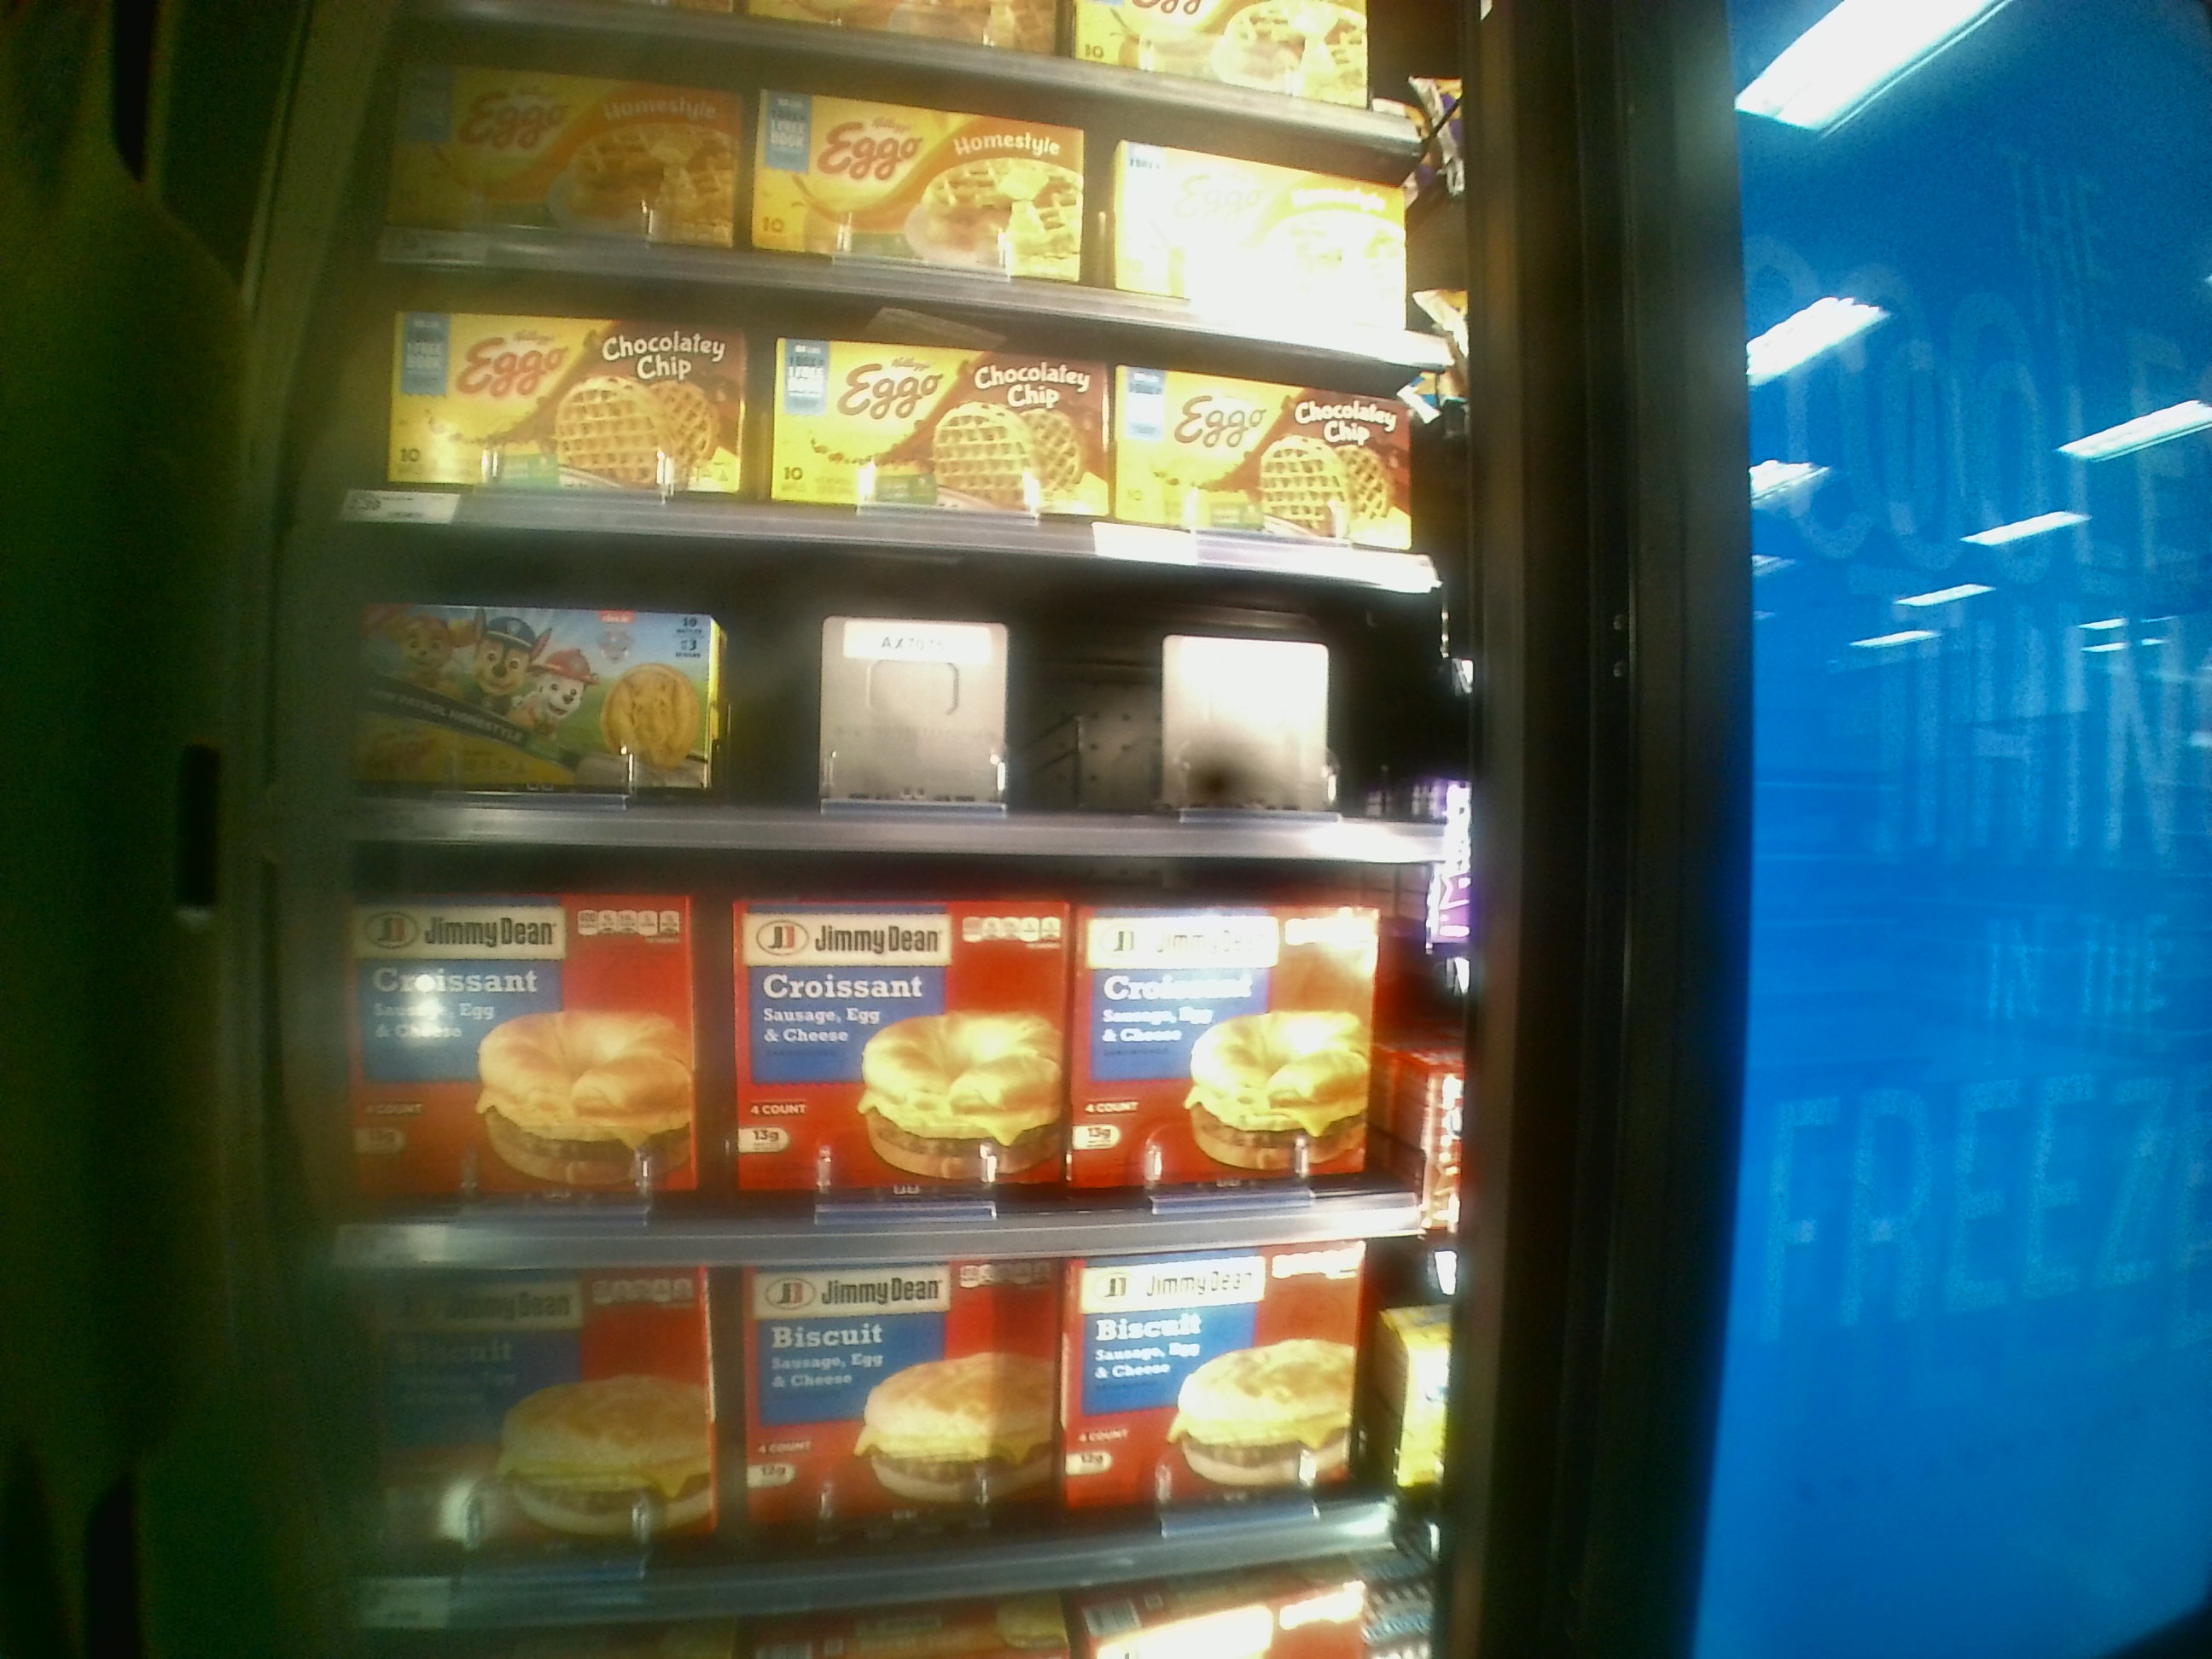shelf: (340, 843, 1460, 1265), (348, 521, 1451, 852), (347, 254, 1451, 568)
